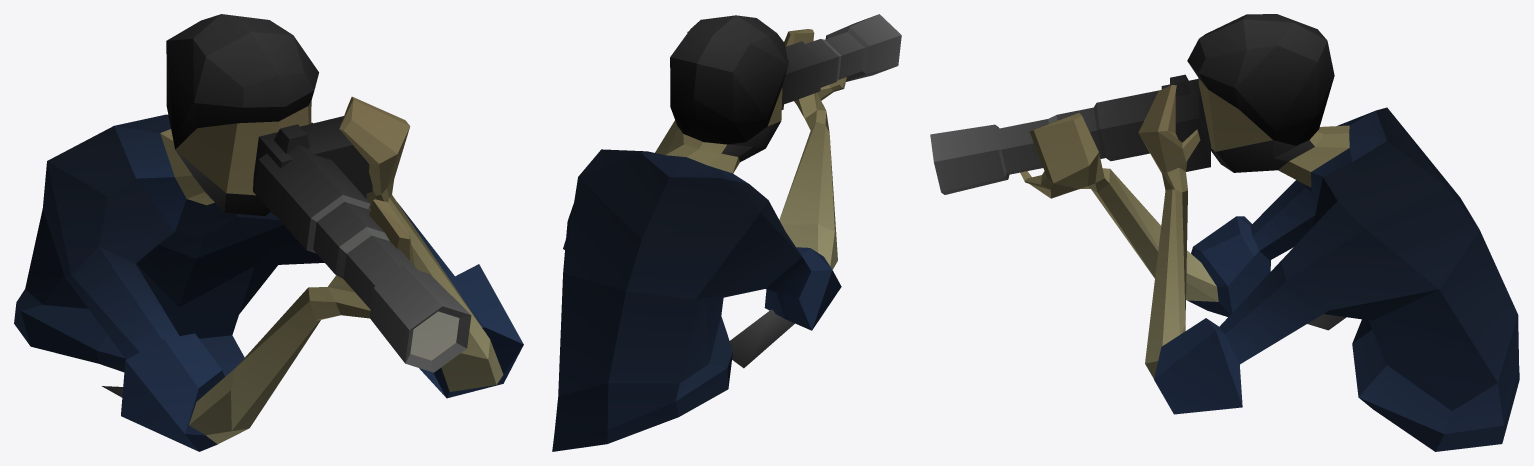
Rendered from photoBody.obj.
The picture shows the model from 3 angles, left to right: view 1: azimuth 30°, elevation 25°; view 2: azimuth 150°, elevation 25°; view 3: azimuth 270°, elevation 25°; orthographic projection. The views are drawn at different scales.
Visible parts, largest first — view 1: photographer.002; view 2: photographer.002; view 3: photographer.002.
Boxes of the visible parts, x1,y1,x2,y2 form: photographer.002: (14,14,523,451); photographer.002: (552,14,901,451); photographer.002: (930,14,1519,451).
Size of the model in its own units: 2.11 by 2.66 by 3.63.
